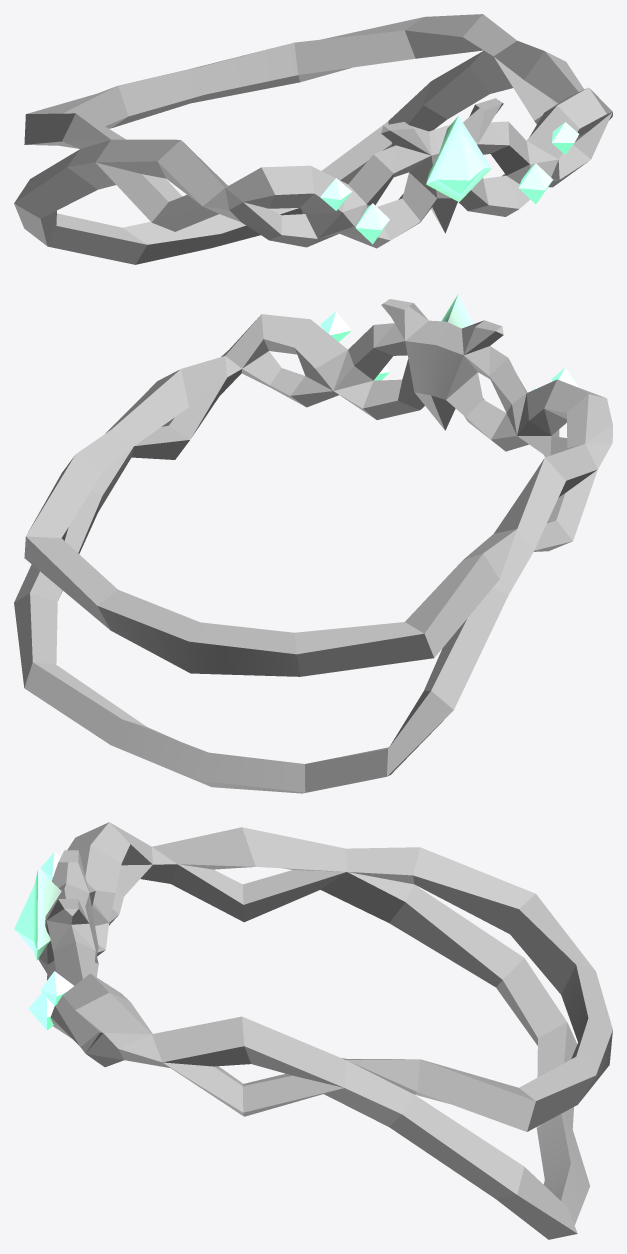
The model's file is Chr_Attach_Tiara_03.fbx.
3 renders of one model, top to bottom at view 1: azimuth 30°, elevation 25°; view 2: azimuth 150°, elevation 25°; view 3: azimuth 270°, elevation 25°, orthographic. The views are drawn at different scales.
Visible parts, largest first — view 1: Chr_Attach_Tiara_03; view 2: Chr_Attach_Tiara_03; view 3: Chr_Attach_Tiara_03.
Boxes of the visible parts, left/top/right/bottom form: Chr_Attach_Tiara_03: left=14, top=14, right=612, bottom=264; Chr_Attach_Tiara_03: left=14, top=294, right=612, bottom=793; Chr_Attach_Tiara_03: left=14, top=822, right=612, bottom=1239.
Size of the model in its own units: 26.75 by 18.12 by 29.45.
